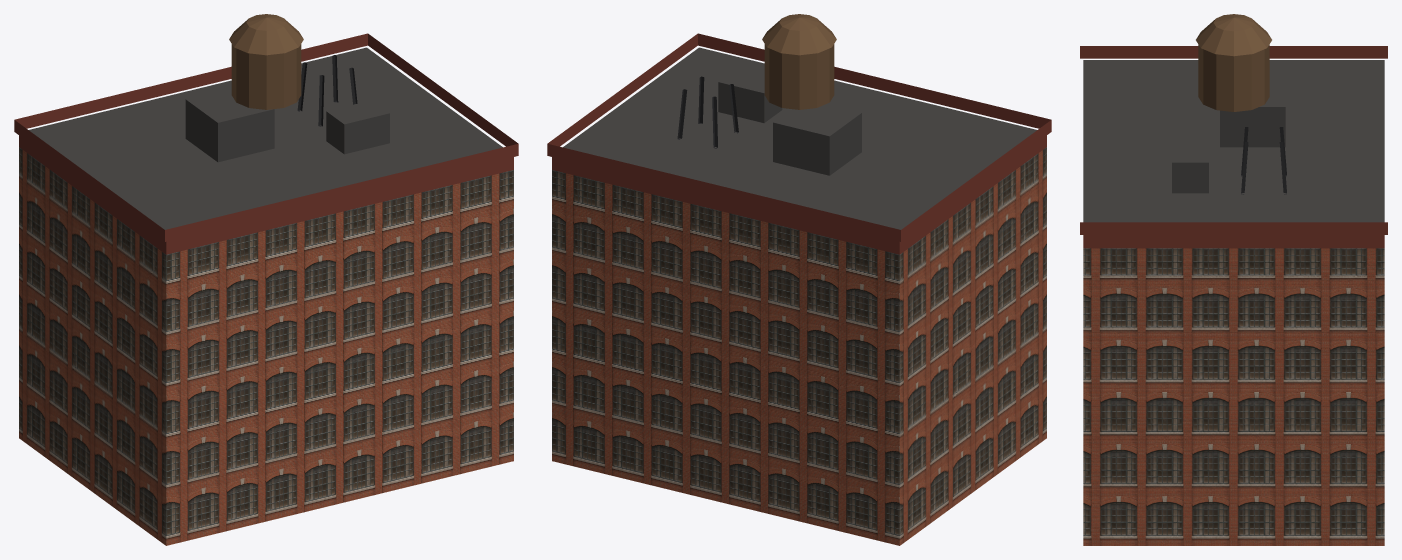
Rendered from gen_low_brick_loft.glb.
3 views of the same model, side by side, from view 1: azimuth 30°, elevation 25°; view 2: azimuth 150°, elevation 25°; view 3: azimuth 270°, elevation 25° (orthographic). The views are drawn at different scales.
Visible parts, largest first — view 1: gen_low_brick_loft; view 2: gen_low_brick_loft; view 3: gen_low_brick_loft.
Boxes of the visible parts, left/top/right/bottom form: gen_low_brick_loft: left=14, top=14, right=518, bottom=545; gen_low_brick_loft: left=547, top=14, right=1051, bottom=545; gen_low_brick_loft: left=1080, top=14, right=1387, bottom=545.
Bounding box in the file's own units: 30.5 × 35.6 × 22.5.
2 materials, 2 textured.
